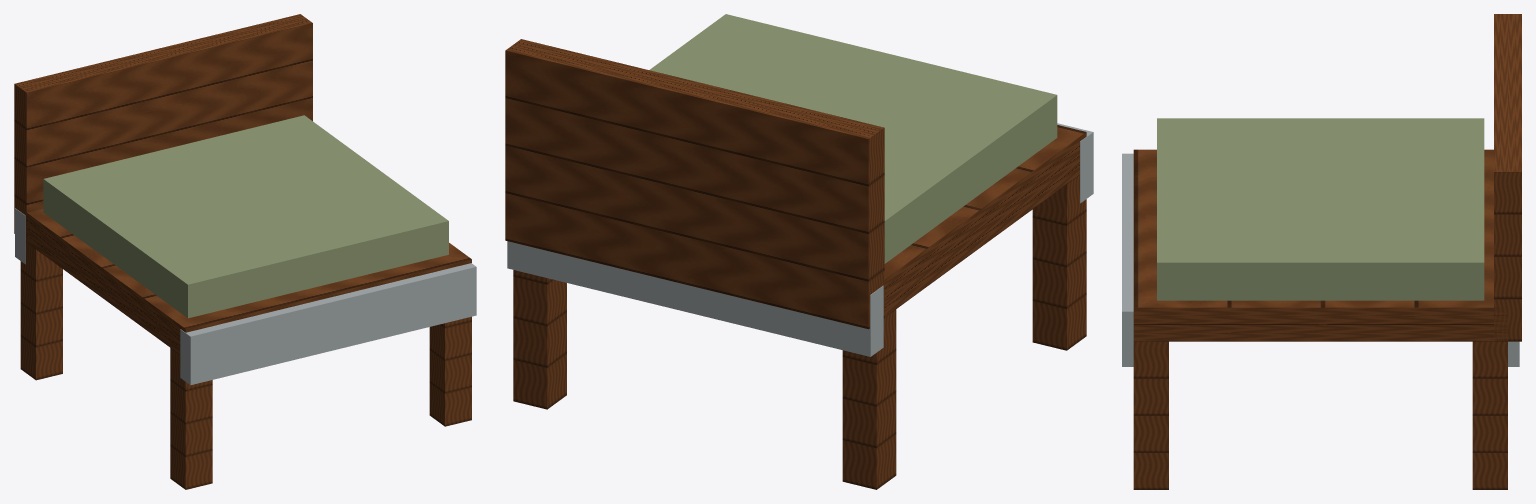
File: bunker-shelter-construction-wall-corner-seat-9b349b46__23396.glb
3 views of the same model, side by side, from view 1: azimuth 30°, elevation 25°; view 2: azimuth 150°, elevation 25°; view 3: azimuth 270°, elevation 25° (orthographic). The views are drawn at different scales.
Parts seen in each view (by area): view 1: wall-corner-seat; view 2: wall-corner-seat; view 3: wall-corner-seat.
Boxes of the visible parts, x1,y1,x2,y2 form: wall-corner-seat: (14,14,476,489); wall-corner-seat: (505,14,1093,489); wall-corner-seat: (1122,14,1521,489).
Bounding box in the file's own units: 0.8012 × 0.7501 × 0.855.
3 materials, 1 textured.
